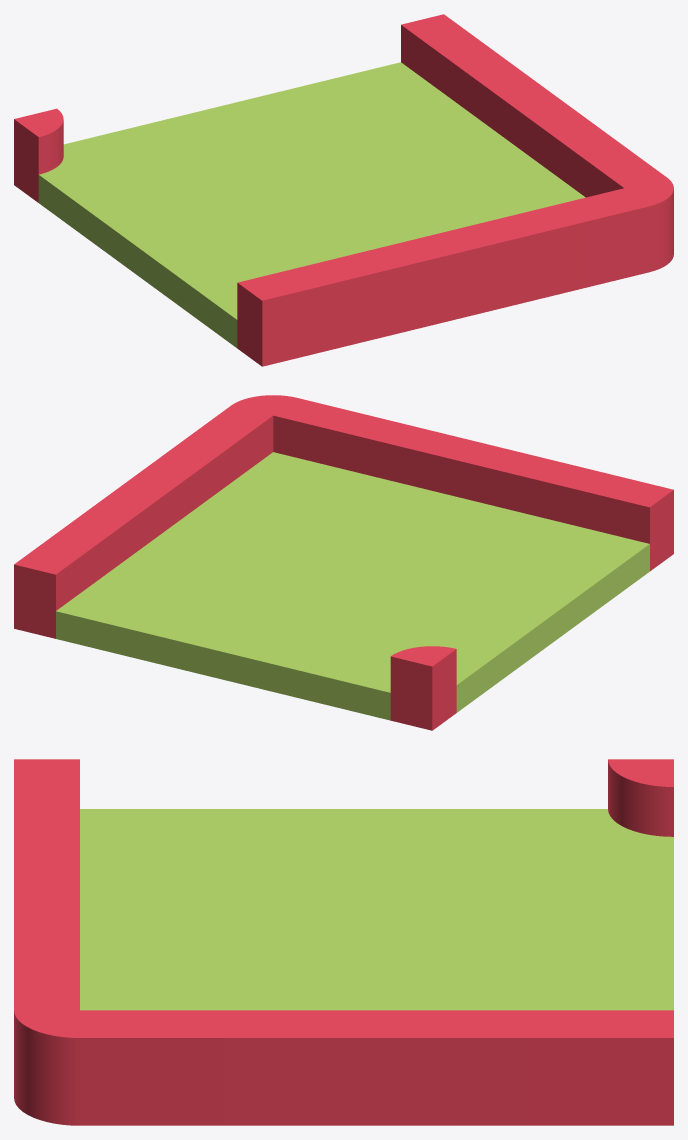
Rendered from squareCornerA.fbx.
3 views of the same model, one above another, from view 1: azimuth 30°, elevation 25°; view 2: azimuth 150°, elevation 25°; view 3: azimuth 270°, elevation 25° (orthographic). The views are drawn at different scales.
Visible parts, largest first — view 1: squareCornerA; view 2: squareCornerA; view 3: squareCornerA.
Part boxes in pixels (x1=…): squareCornerA: x1=14, y1=14, x2=673, y2=366; squareCornerA: x1=14, y1=395, x2=673, y2=730; squareCornerA: x1=14, y1=759, x2=673, y2=1125.
Size of the model in its own units: 10 by 1.47 by 10.
